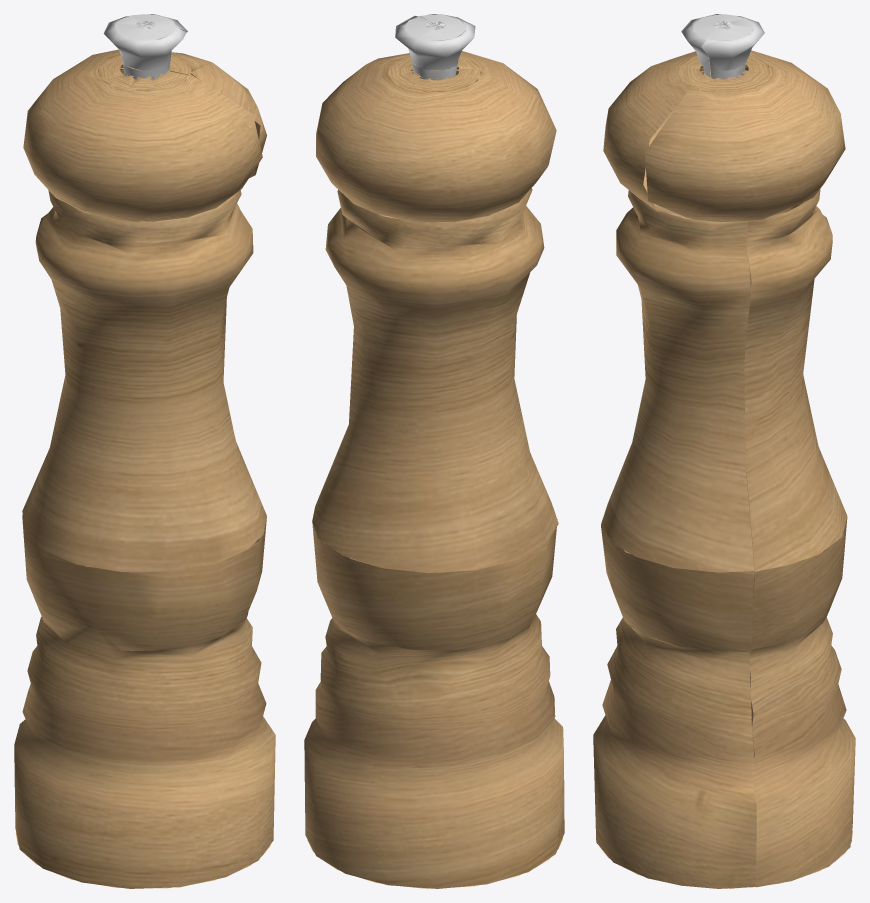
File: salt.glb
3 views of the same model, side by side, from view 1: azimuth 30°, elevation 25°; view 2: azimuth 150°, elevation 25°; view 3: azimuth 270°, elevation 25° (orthographic).
Visible parts, largest first — view 1: ShakerSalt; view 2: ShakerSalt; view 3: ShakerSalt.
Part boxes in pixels (x1=…): ShakerSalt: x1=14, y1=14, x2=275, y2=888; ShakerSalt: x1=304, y1=14, x2=564, y2=888; ShakerSalt: x1=593, y1=14, x2=855, y2=888.
Bounding box in the file's own units: 0.0561 × 0.1916 × 0.0563.
Materials: 2 (1 with a texture image).
